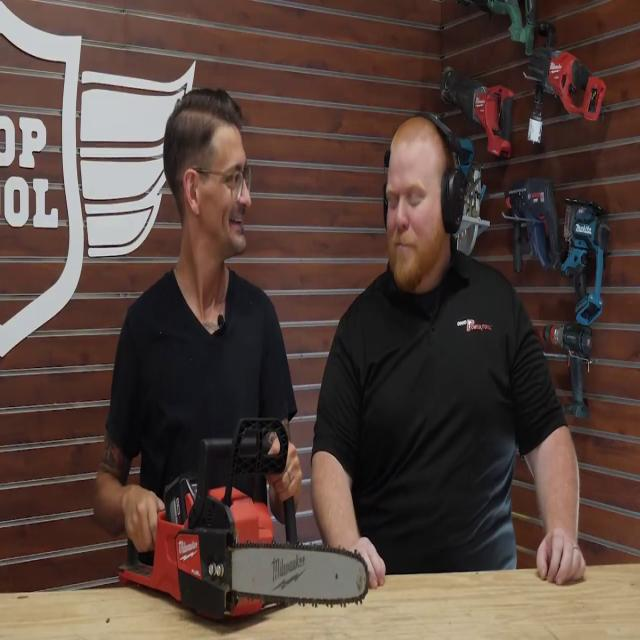earmuff: (439, 166, 468, 241)
glasses: (200, 156, 254, 208)
